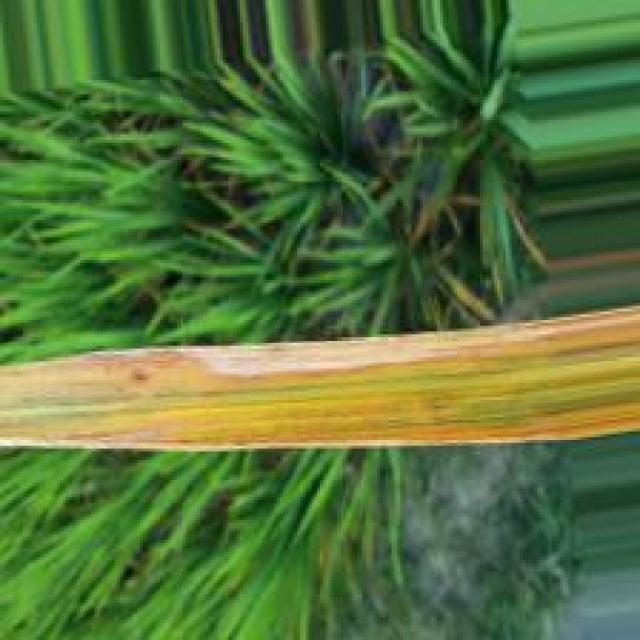Bacterial_Leaf_Blight: (0, 297, 640, 378), (5, 416, 571, 452)
